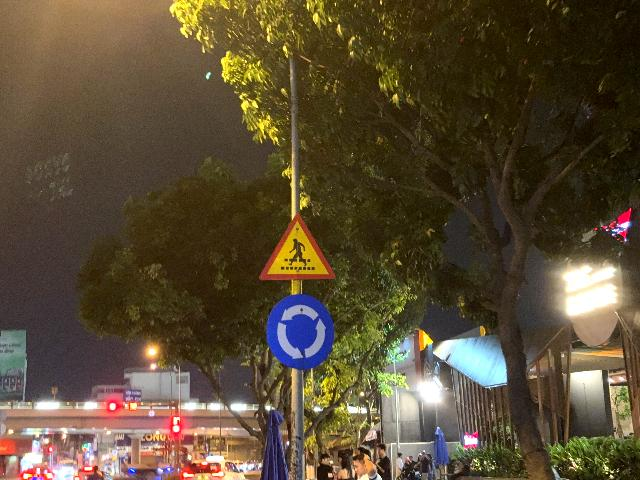duong-nguoi-di-bo-cat-ngang: (259, 213, 335, 279)
noi-giao-nhau-chay-theo-vong-xuyen: (266, 293, 335, 369)
